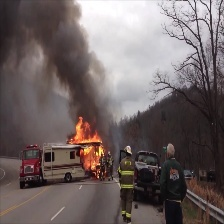fire: (68, 115, 106, 179)
